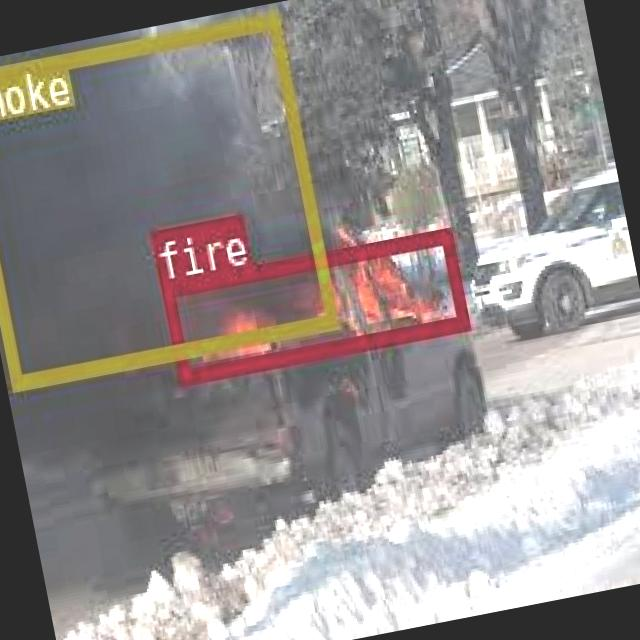fire: (158, 227, 468, 382)
smoke: (0, 10, 337, 389)
